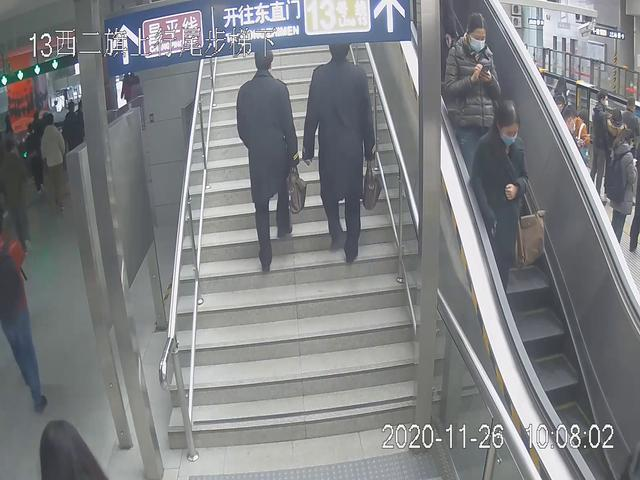person: (301, 36, 385, 266), (466, 95, 543, 323), (232, 44, 303, 278), (441, 9, 502, 195)
